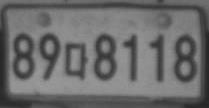1: (121, 33, 144, 81), (148, 33, 170, 81)
8: (173, 33, 197, 82), (93, 33, 117, 80), (12, 32, 35, 79)
9: (38, 33, 60, 80)
다: (64, 42, 89, 80)
